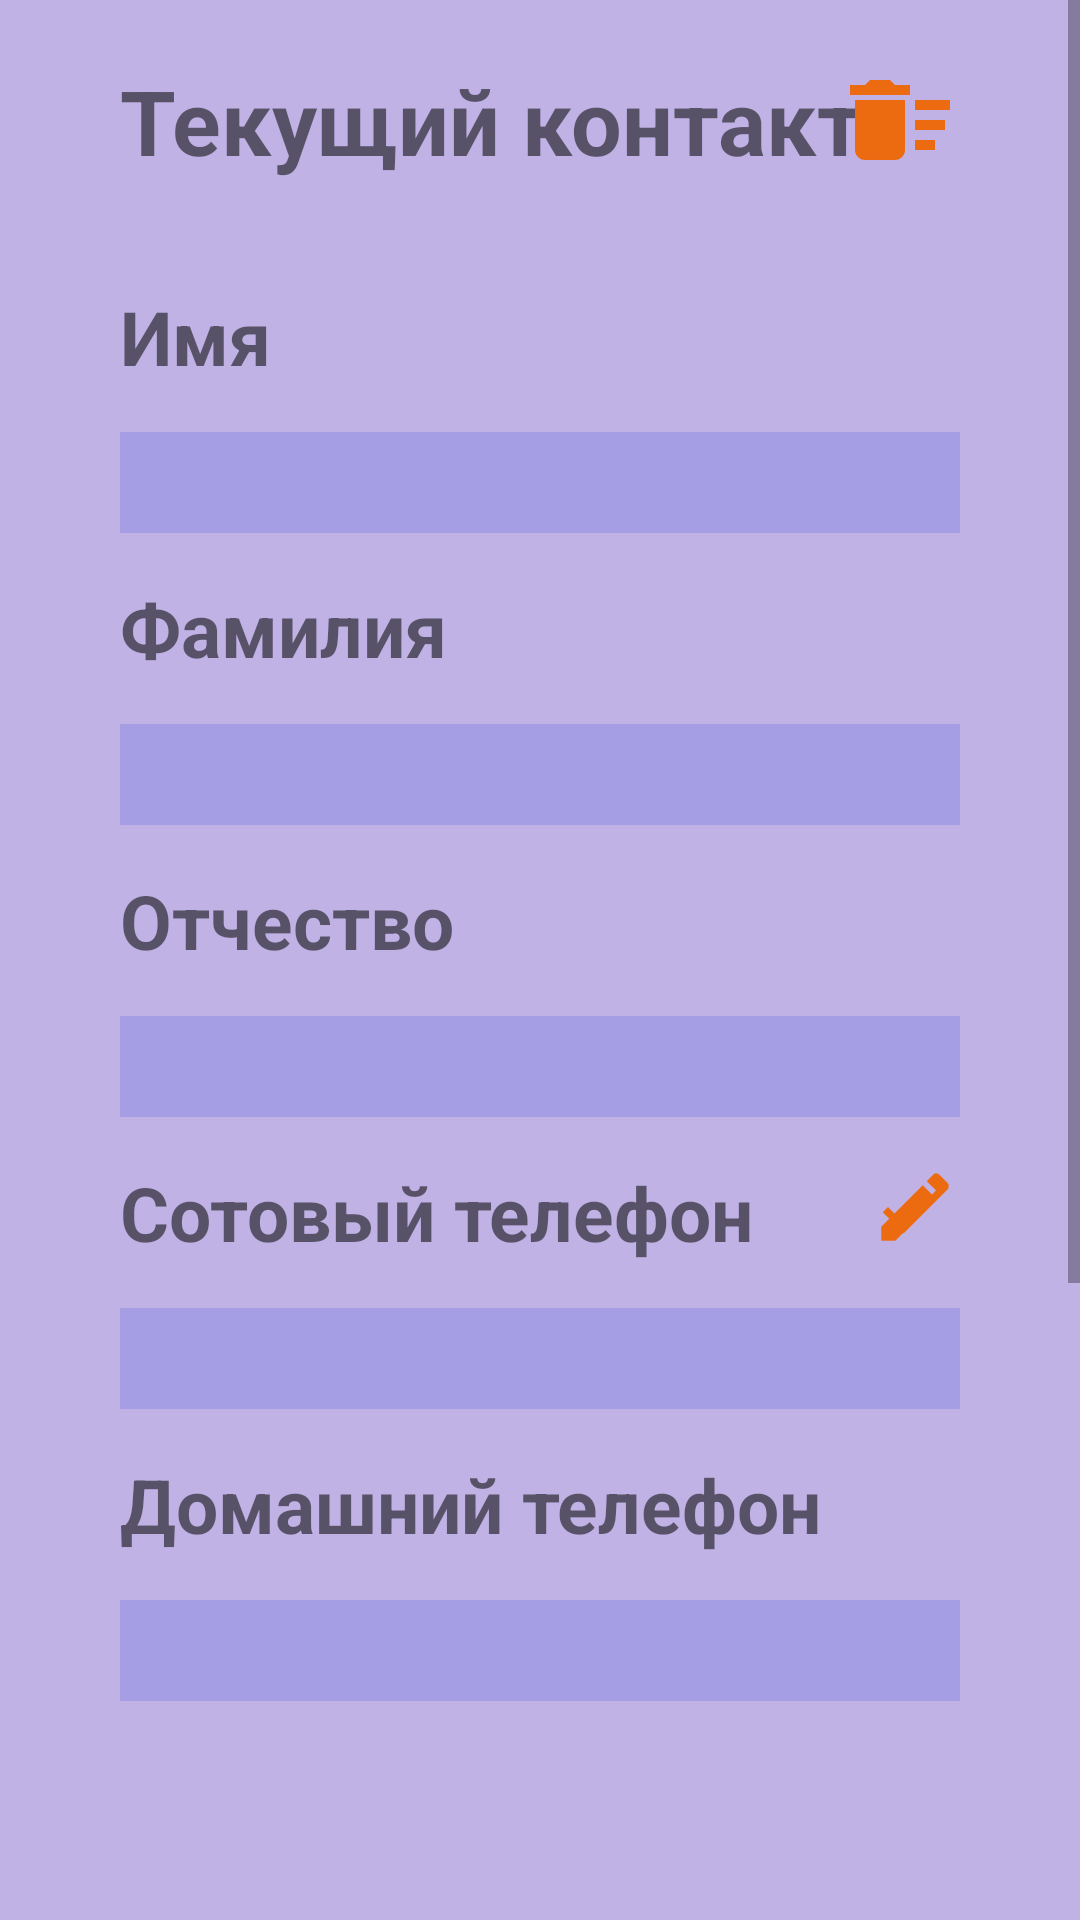

Icon click points for this 1080px x 1920px phone screenshot, format (x=x, y=y):
delete: (x=895, y=120)
